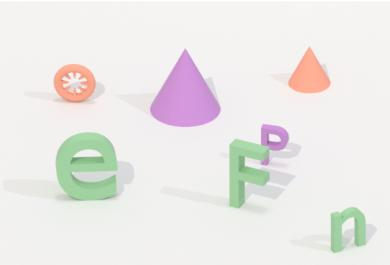0-TamGiac: (147, 44, 223, 129), (287, 44, 332, 96)
0-TronLo: (52, 61, 97, 104)
F: (225, 133, 271, 210)
P: (257, 120, 292, 169)
e: (54, 131, 125, 203)
n: (325, 203, 369, 256)
